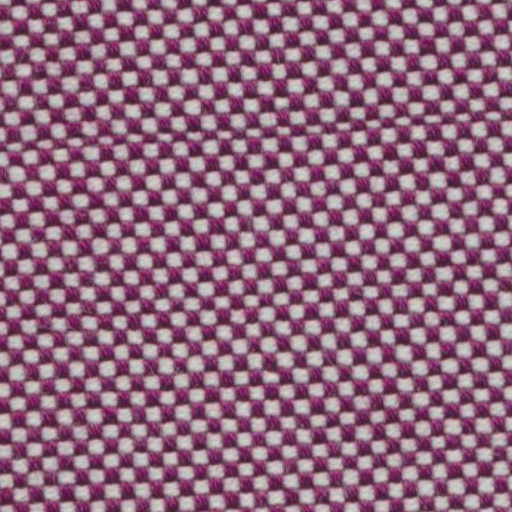TuoSha: (10, 110, 492, 167)
